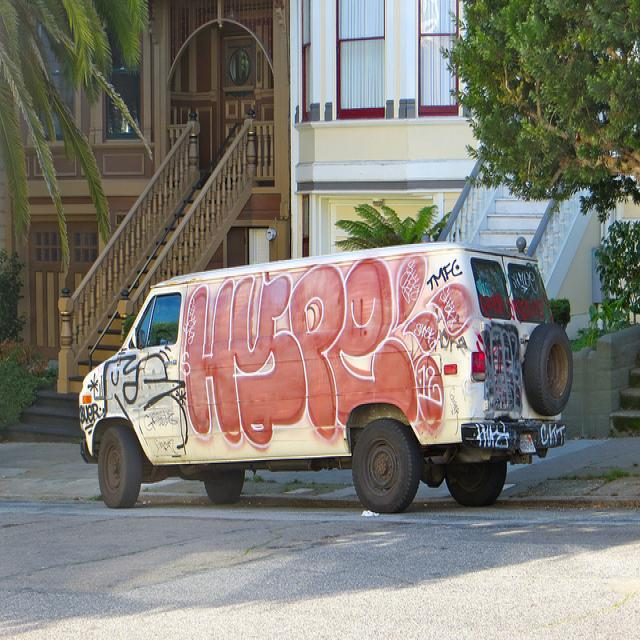Vehicle: (75, 242, 572, 516)
